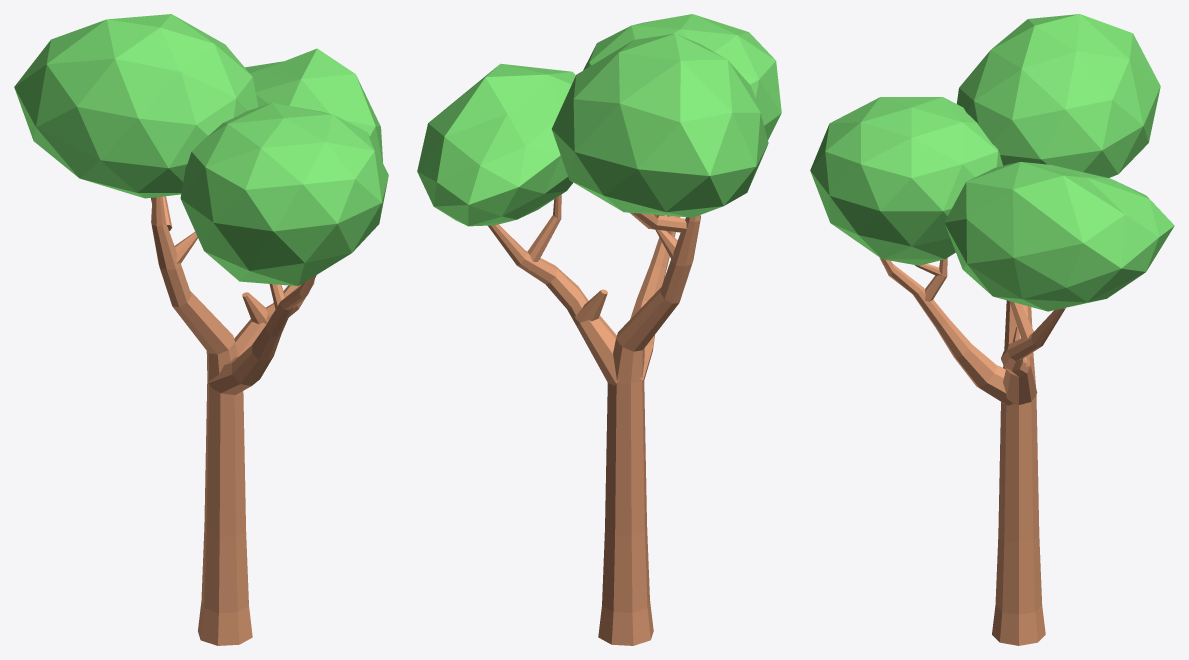
The model's file is Tree_9.fbx.
3 views of the same model, side by side, from view 1: azimuth 30°, elevation 25°; view 2: azimuth 150°, elevation 25°; view 3: azimuth 270°, elevation 25° (orthographic). The views are drawn at different scales.
Visible parts, largest first — view 1: Tree_9; view 2: Tree_9; view 3: Tree_9.
Boxes of the visible parts, <box> form: Tree_9: <box>14,14,388,645</box>; Tree_9: <box>417,14,781,645</box>; Tree_9: <box>810,14,1174,645</box>.
Size of the model in its own units: 10378 by 18840 by 10687.
